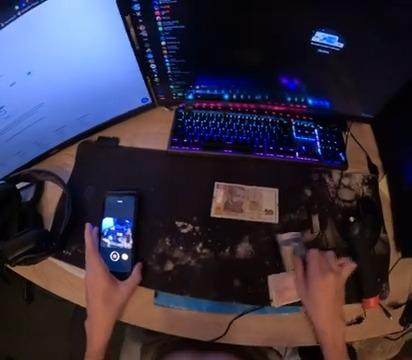50leva: (210, 181, 280, 226)
